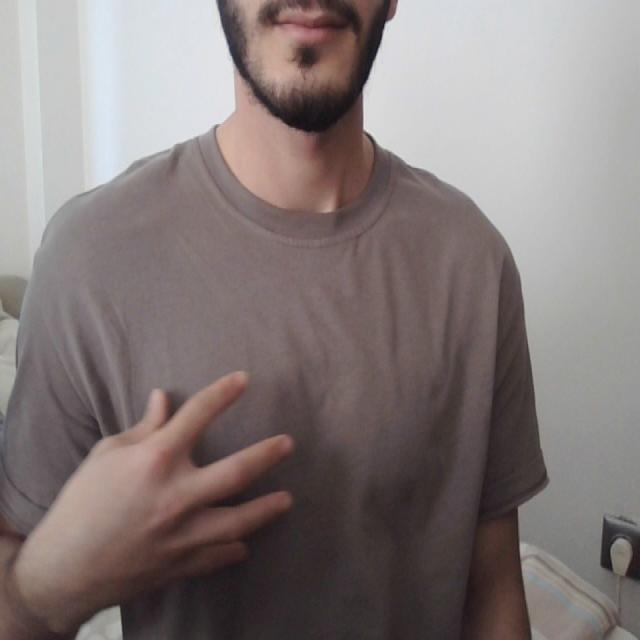Anne: (53, 351, 513, 613)
